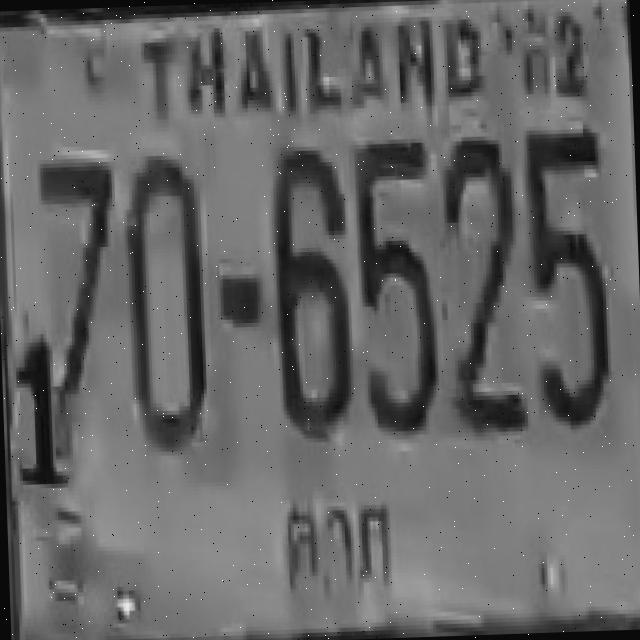0: (120, 150, 206, 448)
2: (440, 135, 520, 421), (438, 136, 520, 397)
5: (520, 126, 610, 428), (352, 138, 439, 432)
6: (268, 143, 350, 433)
7: (37, 155, 118, 376)
Tak: (263, 498, 408, 593)
